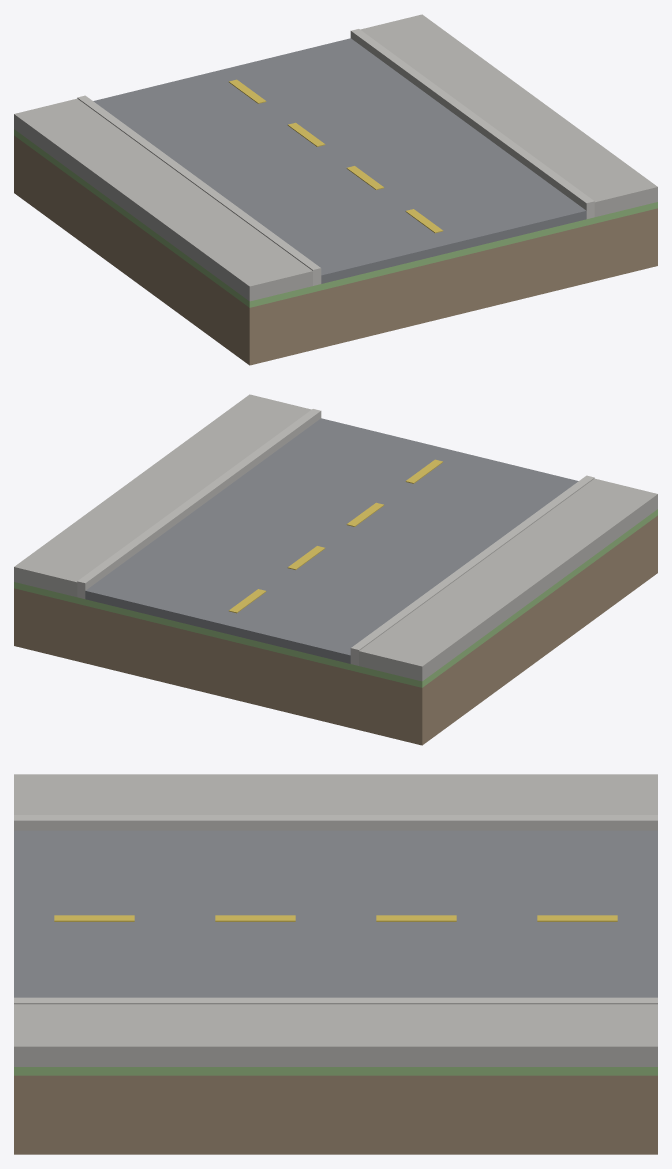
Rendered from ruas__asfalto_reta.glb.
3 views of the same model, one above another, from view 1: azimuth 30°, elevation 25°; view 2: azimuth 150°, elevation 25°; view 3: azimuth 270°, elevation 25° (orthographic). The views are drawn at different scales.
Visible parts, largest first — view 1: ruas__asfalto_reta; view 2: ruas__asfalto_reta; view 3: ruas__asfalto_reta.
Part boxes in pixels (x1=…): ruas__asfalto_reta: x1=14, y1=14, x2=657, y2=365; ruas__asfalto_reta: x1=14, y1=394, x2=657, y2=745; ruas__asfalto_reta: x1=14, y1=774, x2=657, y2=1154.
Bounding box in the file's own units: 2 × 0.375 × 2.
